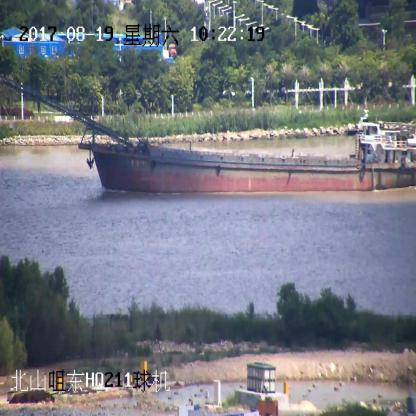Bulk Carrier: (6, 82, 415, 193)
